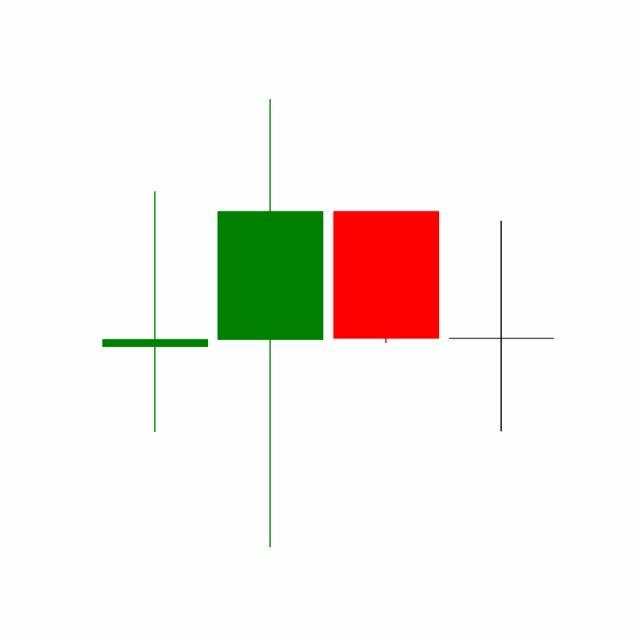Spinning Top: (444, 219, 560, 434)
